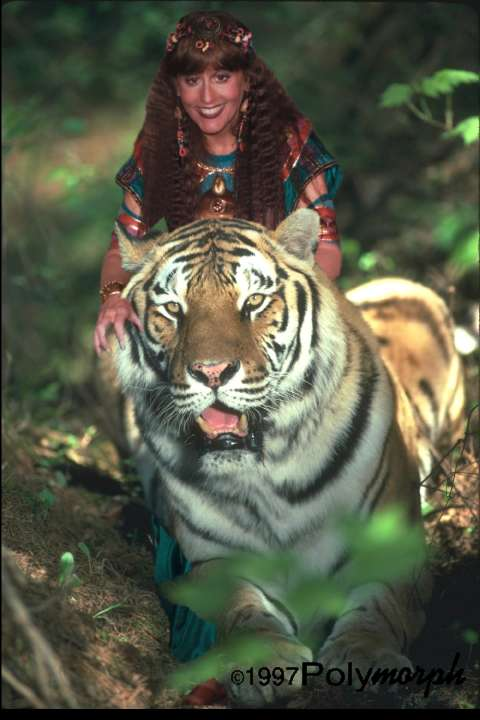Tigre: (92, 231, 369, 551)
